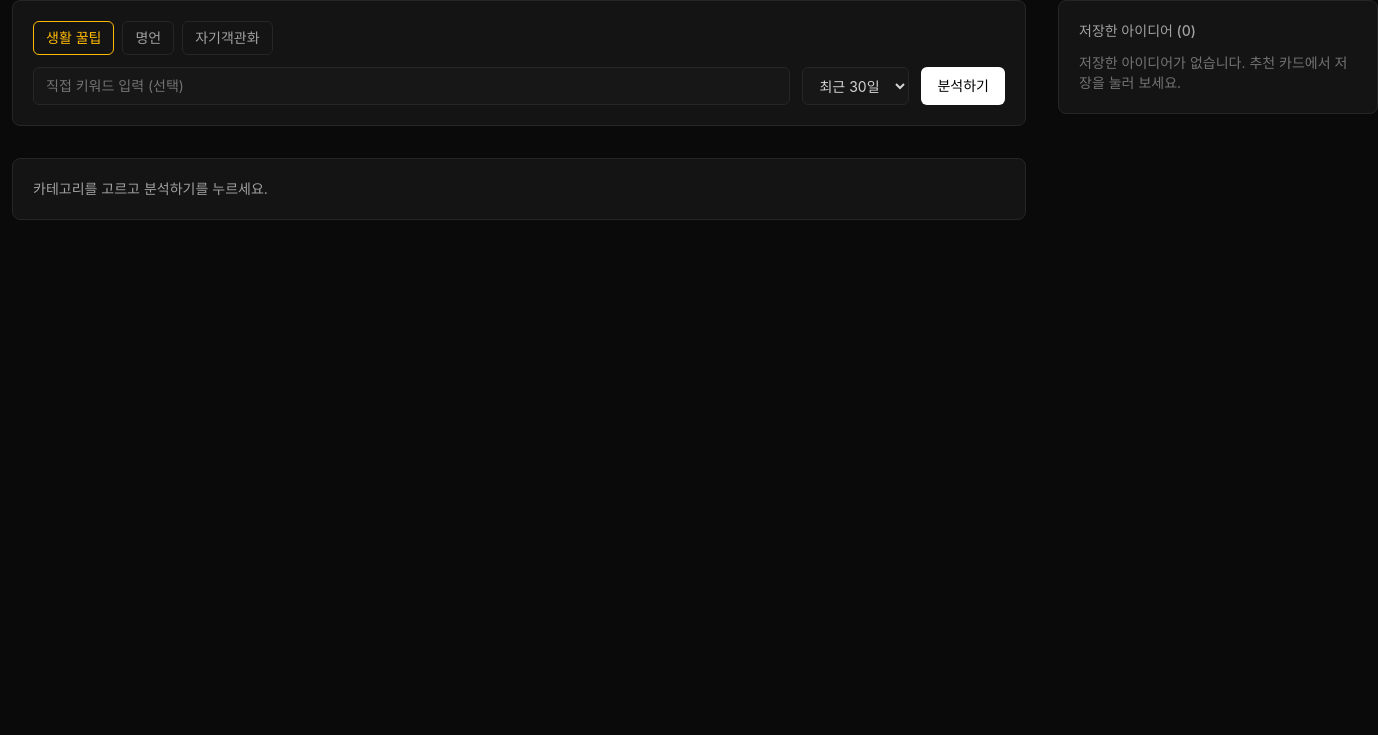
it: Dashboard › 에러 › 다시 검색해 성공하면 에러를 지운다
Click the button "분석하기": (963, 86) [922,67,1005,105]
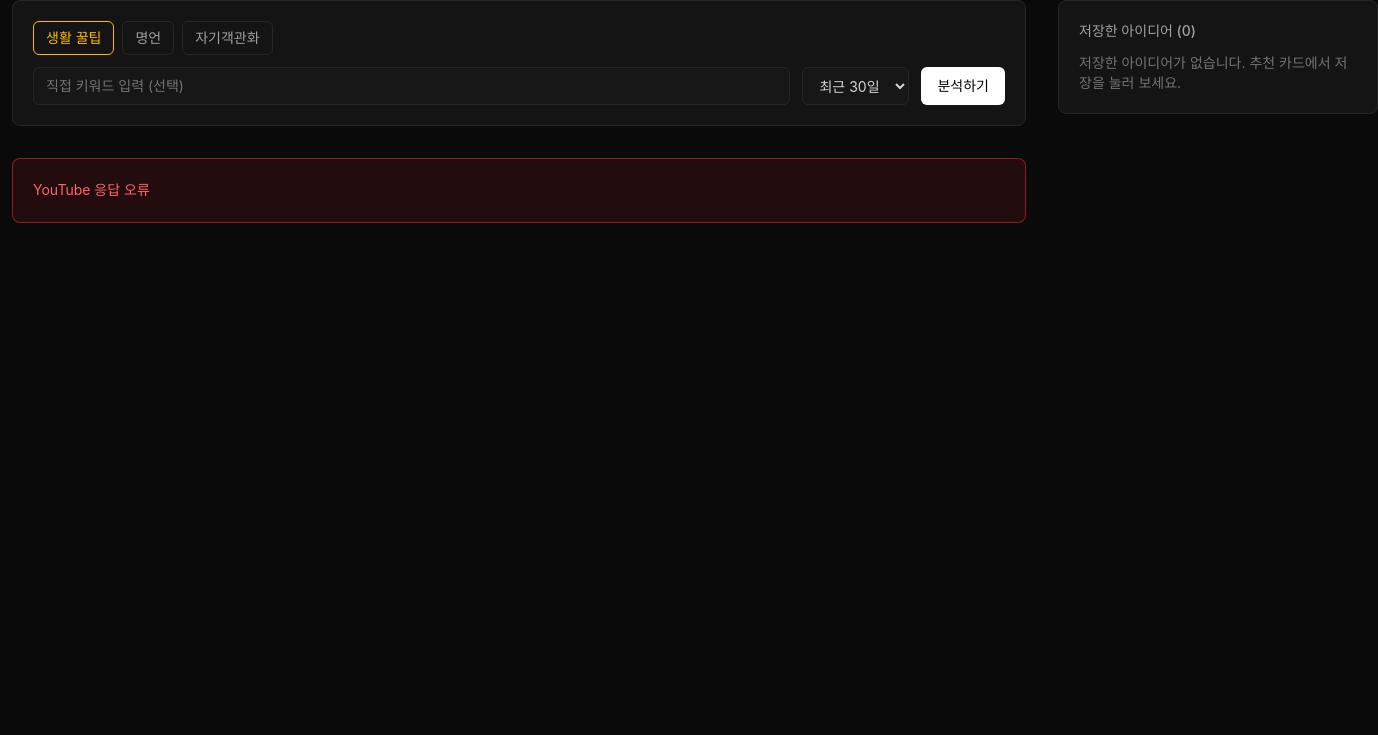
Expected: the message reads "YouTube 응답 오류", [33,181,150,198]
Click the button "분석하기": (963, 86) [922,67,1005,105]
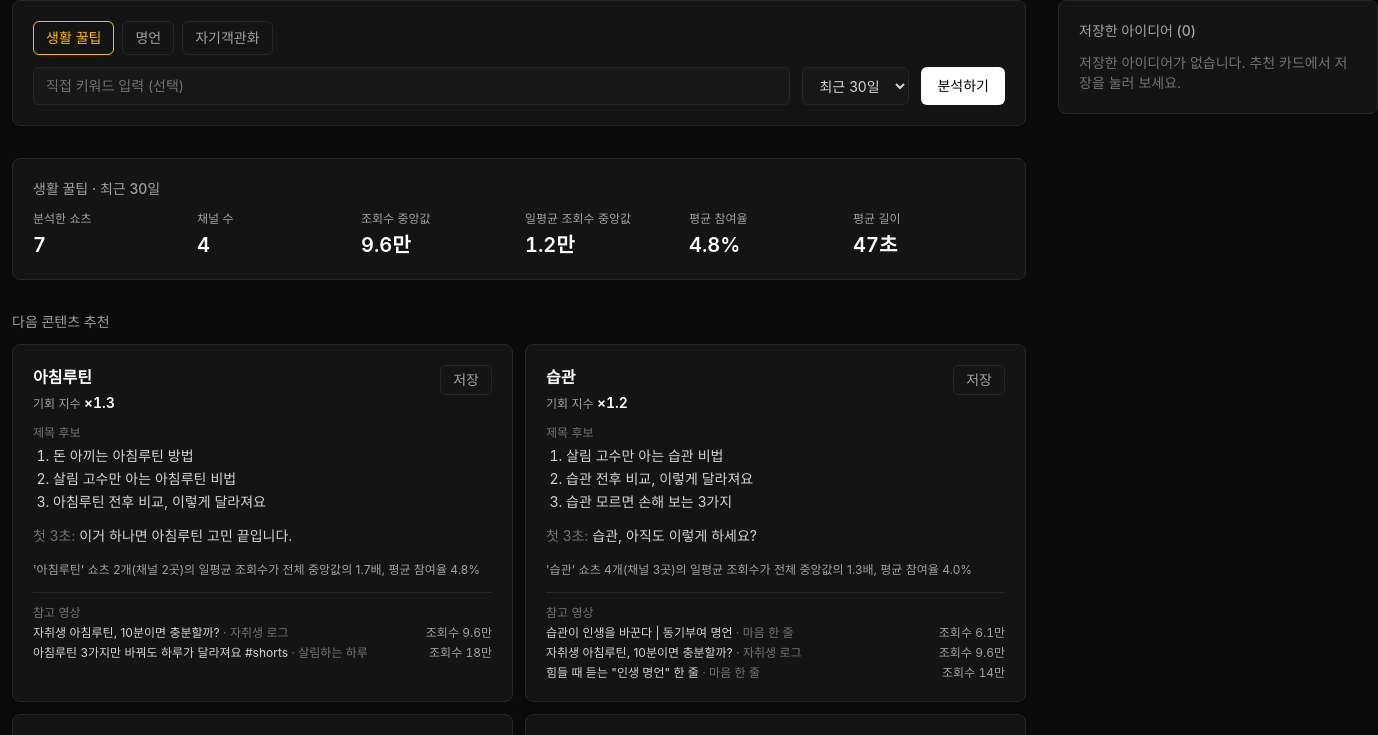
Expected: the heading "생활 꿀팁 · 최근 30일" is shown, [33,180,160,197]
Expected: the message "YouTube 응답 오류" is gone
